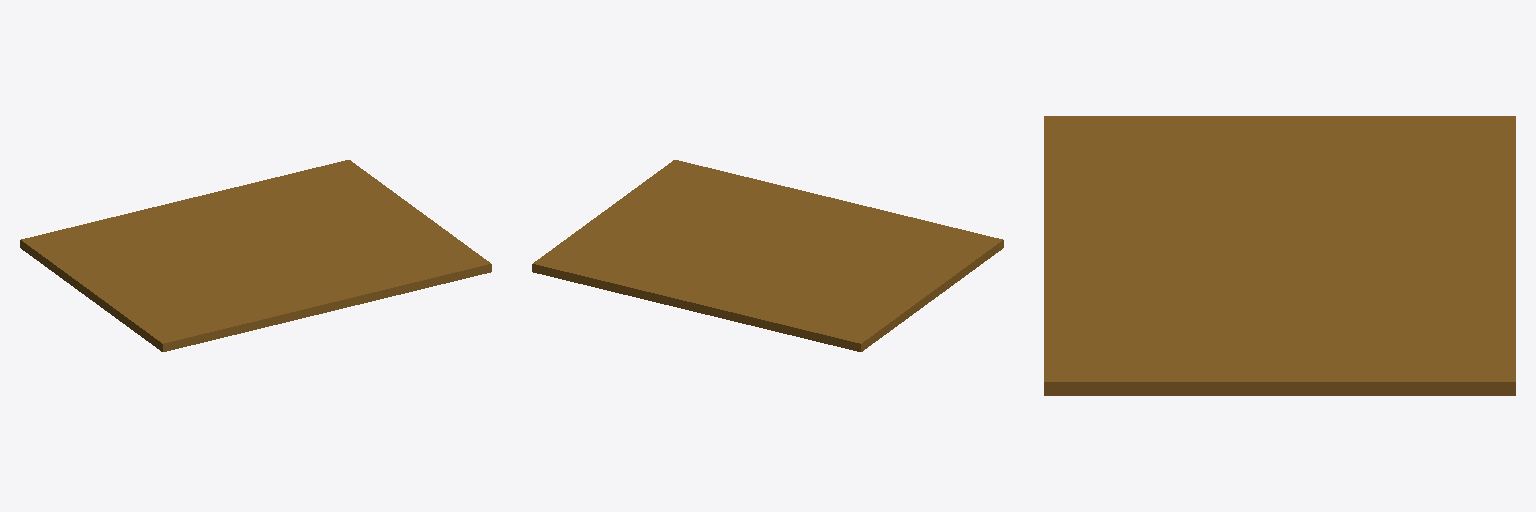
The robot description file, URDF, robot "shelf_horizontal_board.urdf":
<?xml version="0.0" ?>
<robot name="shelf_horizontal_board.urdf">
  <link name="baseLink">
    <contact>
      <lateral_friction value="0.2"/>
      <rolling_friction value="0.0001"/>
      <inertia_scaling value="3.0"/>
    </contact>
    <inertial>
      <origin rpy="0 0 0" xyz="0 0 0"/>
       <mass value="10"/>
       <inertia ixx="1" ixy="0" ixz="0" iyy="1" iyz="0" izz="1"/>
    </inertial>
    <visual>
      <origin rpy="0 0 0" xyz="0 0 0"/>
      <geometry>
        <mesh filename="shelf_horizontal_board.stl"/>
      </geometry>
      <material name="wood">
        <color rgba="0.5882 0.4353 0.2 1"/>
      </material>
    </visual>
    <collision>
      <origin rpy="0 0 0" xyz="0 0 0"/>
      <geometry>
        <mesh filename="shelf_horizontal_board.stl"/>
      </geometry>
    </collision>
  </link>
</robot>

--- Render facts (derived) ---
Views: 3 orthographic renders of the robot side by side, from view 1: azimuth 30°, elevation 25°; view 2: azimuth 150°, elevation 25°; view 3: azimuth 270°, elevation 25°.
Robot: shelf_horizontal_board.urdf — 1 links, 0 joints (none); root link baseLink; default pose: every joint at zero.
Links seen in each view (by area): view 1: baseLink; view 2: baseLink; view 3: baseLink.
Boxes of the visible links, left/top/right/bottom form: baseLink: left=20, top=160, right=491, bottom=351; baseLink: left=532, top=160, right=1003, bottom=351; baseLink: left=1044, top=116, right=1515, bottom=395.
Bounding box of the posed robot: 0.4 × 0.3 × 0.01 m (x, y, z).
Meshes: 1 distinct files referenced, 1 mesh visuals loaded (1 binary STL).